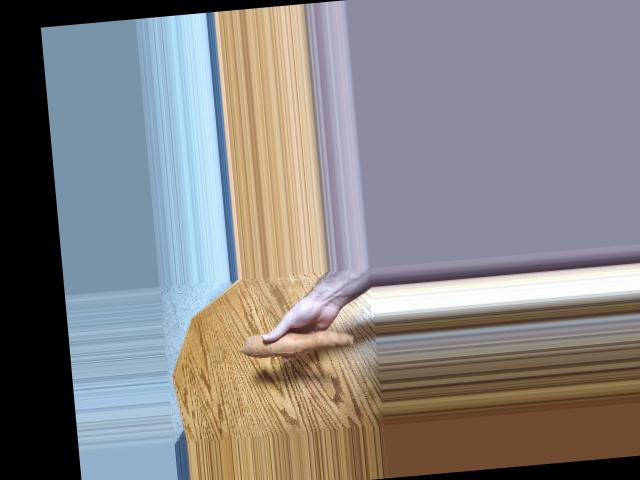sweet_potato: (245, 321, 355, 362)
